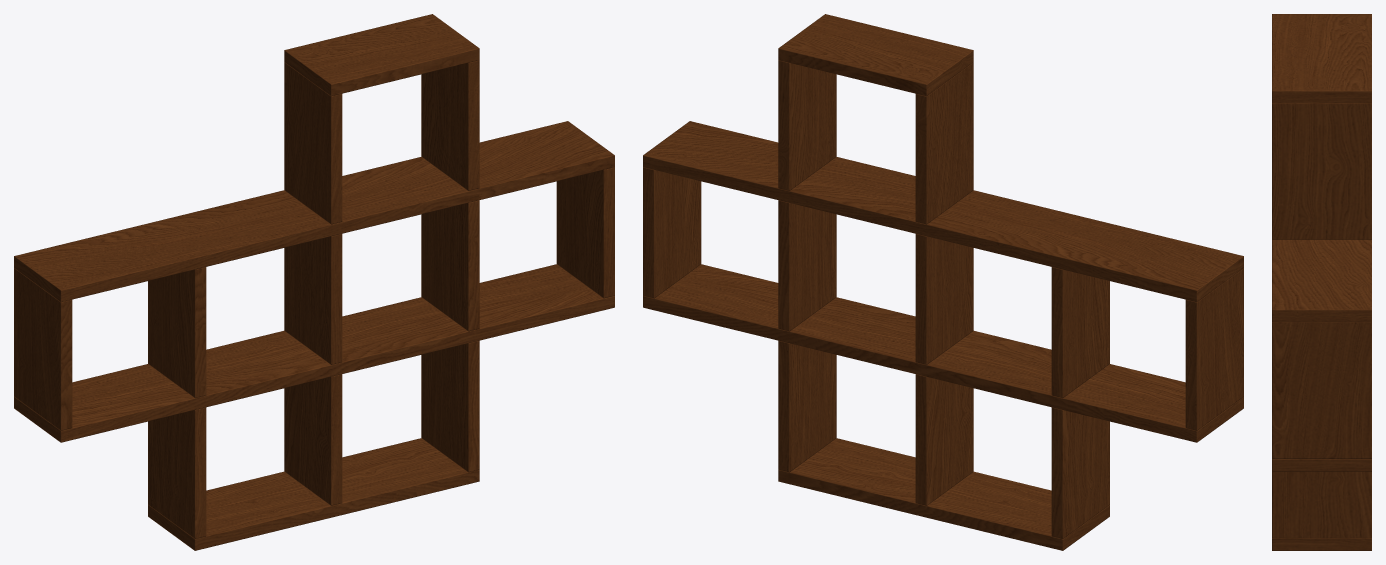
The model's file is pokalregal.glb.
The picture shows the model from 3 angles, left to right: view 1: azimuth 30°, elevation 25°; view 2: azimuth 150°, elevation 25°; view 3: azimuth 270°, elevation 25°; orthographic projection. The views are drawn at different scales.
Visible parts, largest first — view 1: Pokalregal; view 2: Pokalregal; view 3: Pokalregal.
Boxes of the visible parts, bbox=[...] form: Pokalregal: bbox=[14, 14, 614, 550]; Pokalregal: bbox=[643, 14, 1243, 550]; Pokalregal: bbox=[1272, 14, 1371, 550].
Size of the model in its own units: 1.14 by 0.85 by 0.167.
1 material, 1 textured.
